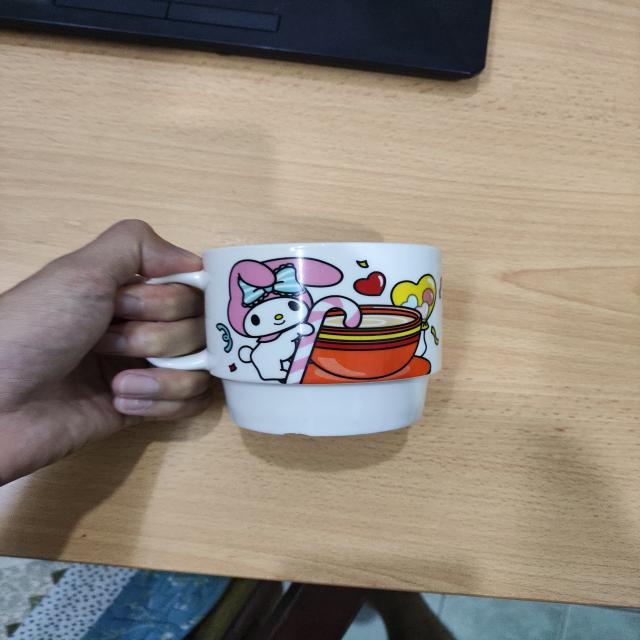cup: (115, 208, 461, 470)
